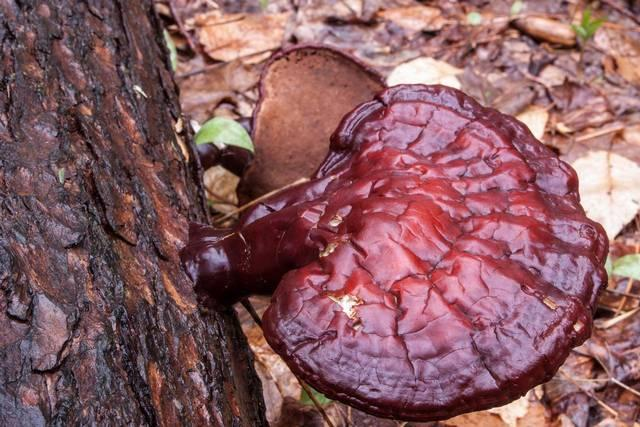Non-edible Mushroom: (179, 80, 610, 422)
